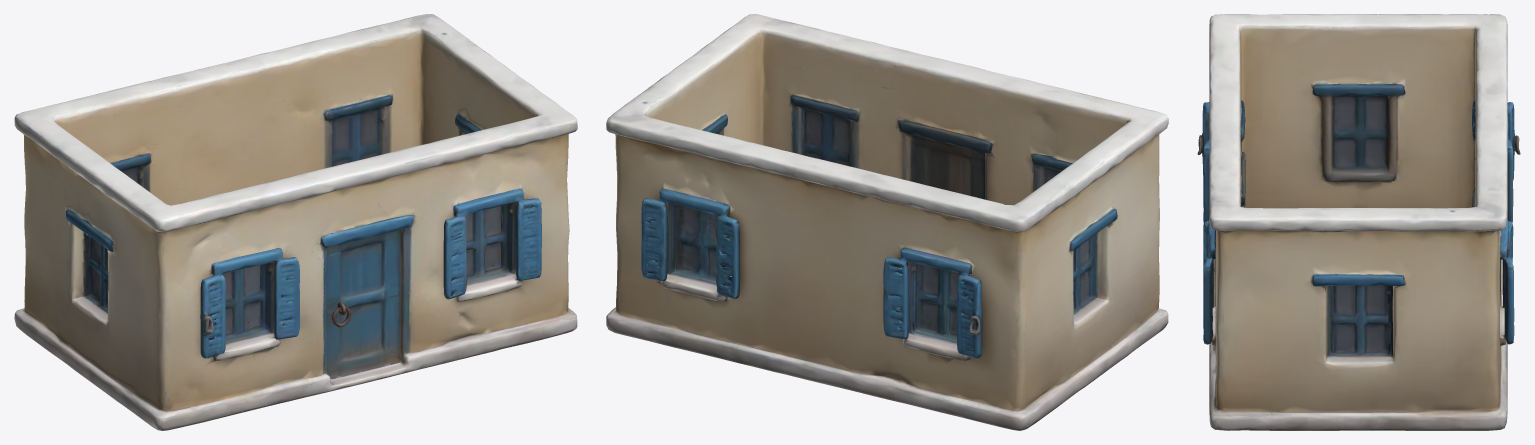
File: body_plaster.glb
3 views of the same model, side by side, from view 1: azimuth 30°, elevation 25°; view 2: azimuth 150°, elevation 25°; view 3: azimuth 270°, elevation 25° (orthographic).
Parts seen in each view (by area): view 1: geometry_0; view 2: geometry_0; view 3: geometry_0.
Part boxes in pixels (x1=…): geometry_0: x1=14, y1=14, x2=577, y2=430; geometry_0: x1=606, y1=14, x2=1168, y2=430; geometry_0: x1=1197, y1=14, x2=1520, y2=430.
Bounding box in the file's own units: 1 × 0.4846 × 0.6616.
Materials: 1 (1 with a texture image).
